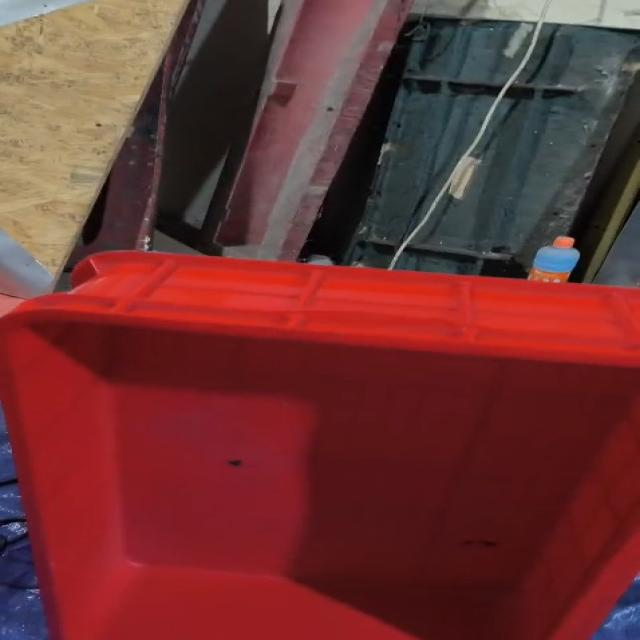red plastic box: (0, 251, 639, 639)
